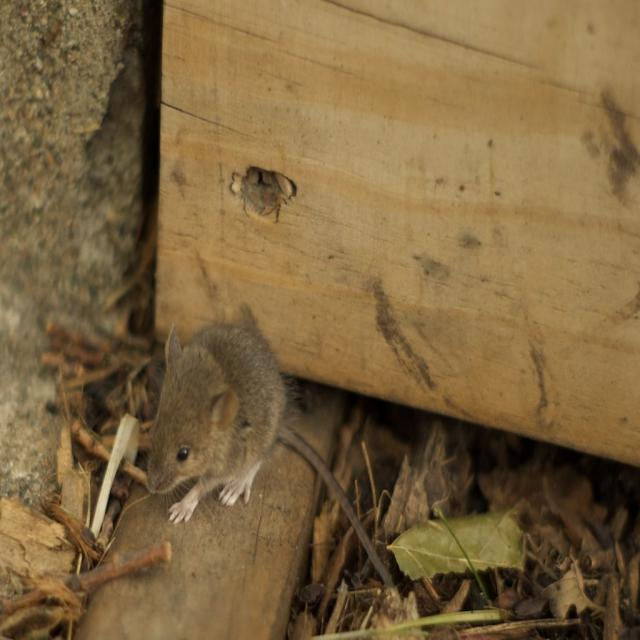rat: (145, 328, 393, 589)
